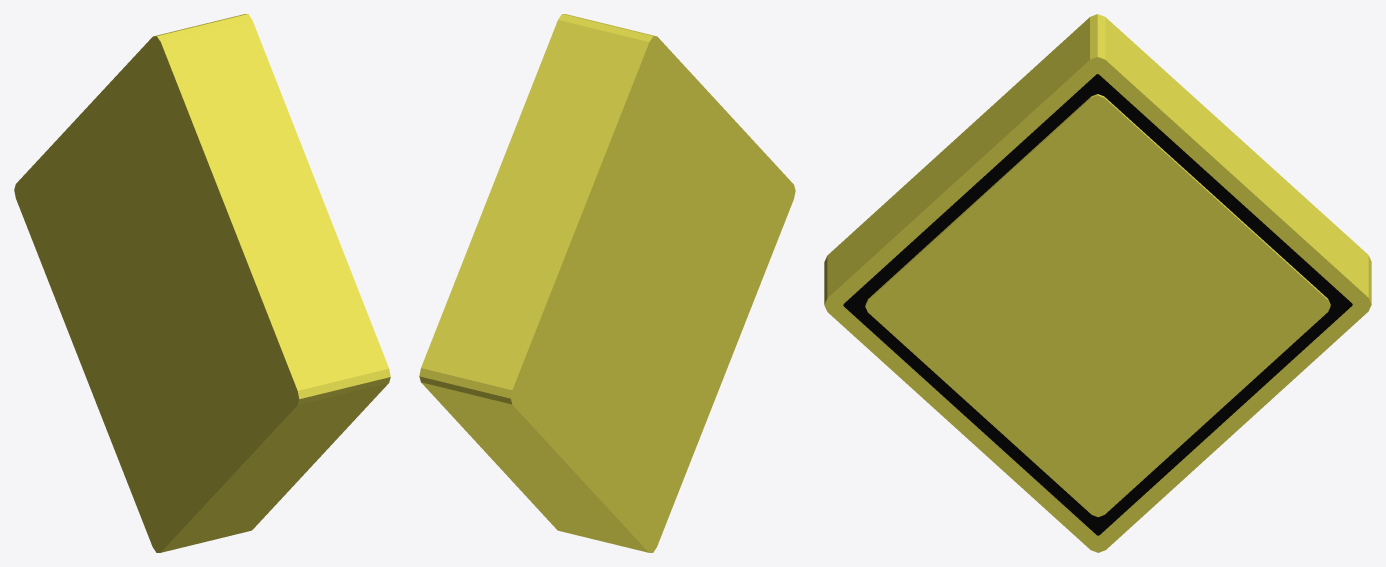
Rendered from señal.fbx.
3 renders of one model, left to right at view 1: azimuth 30°, elevation 25°; view 2: azimuth 150°, elevation 25°; view 3: azimuth 270°, elevation 25°, orthographic. The views are drawn at different scales.
Visible parts, largest first — view 1: Cube; view 2: Cube; view 3: Cube.001, Cube.
Boxes of the visible parts, box(x1,y1,x2,y2) form: Cube: box(14, 14, 390, 552); Cube: box(419, 14, 795, 552); Cube.001: box(865, 94, 1330, 517); Cube: box(824, 14, 1371, 552).
Size of the model in its own units: 53.29 by 278 by 278.
